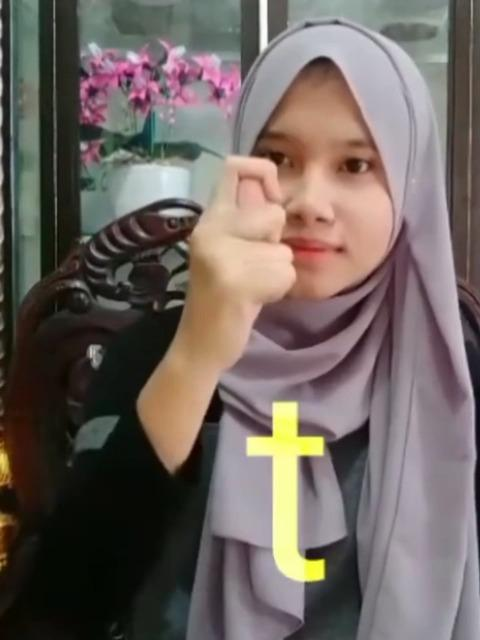T: (182, 154, 300, 370)
